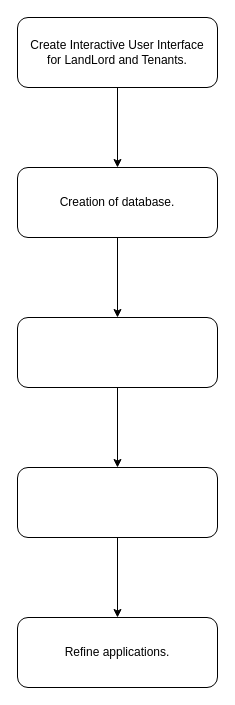
Some shapes in this 235 by 705 pixel diagram are drawn without their labels. The centre of each missing label's shape, as x and y in pixels:
"Chat Room using hamachi." belongs at (117,502).
"Connection of database with C# applications." belongs at (117,352).
